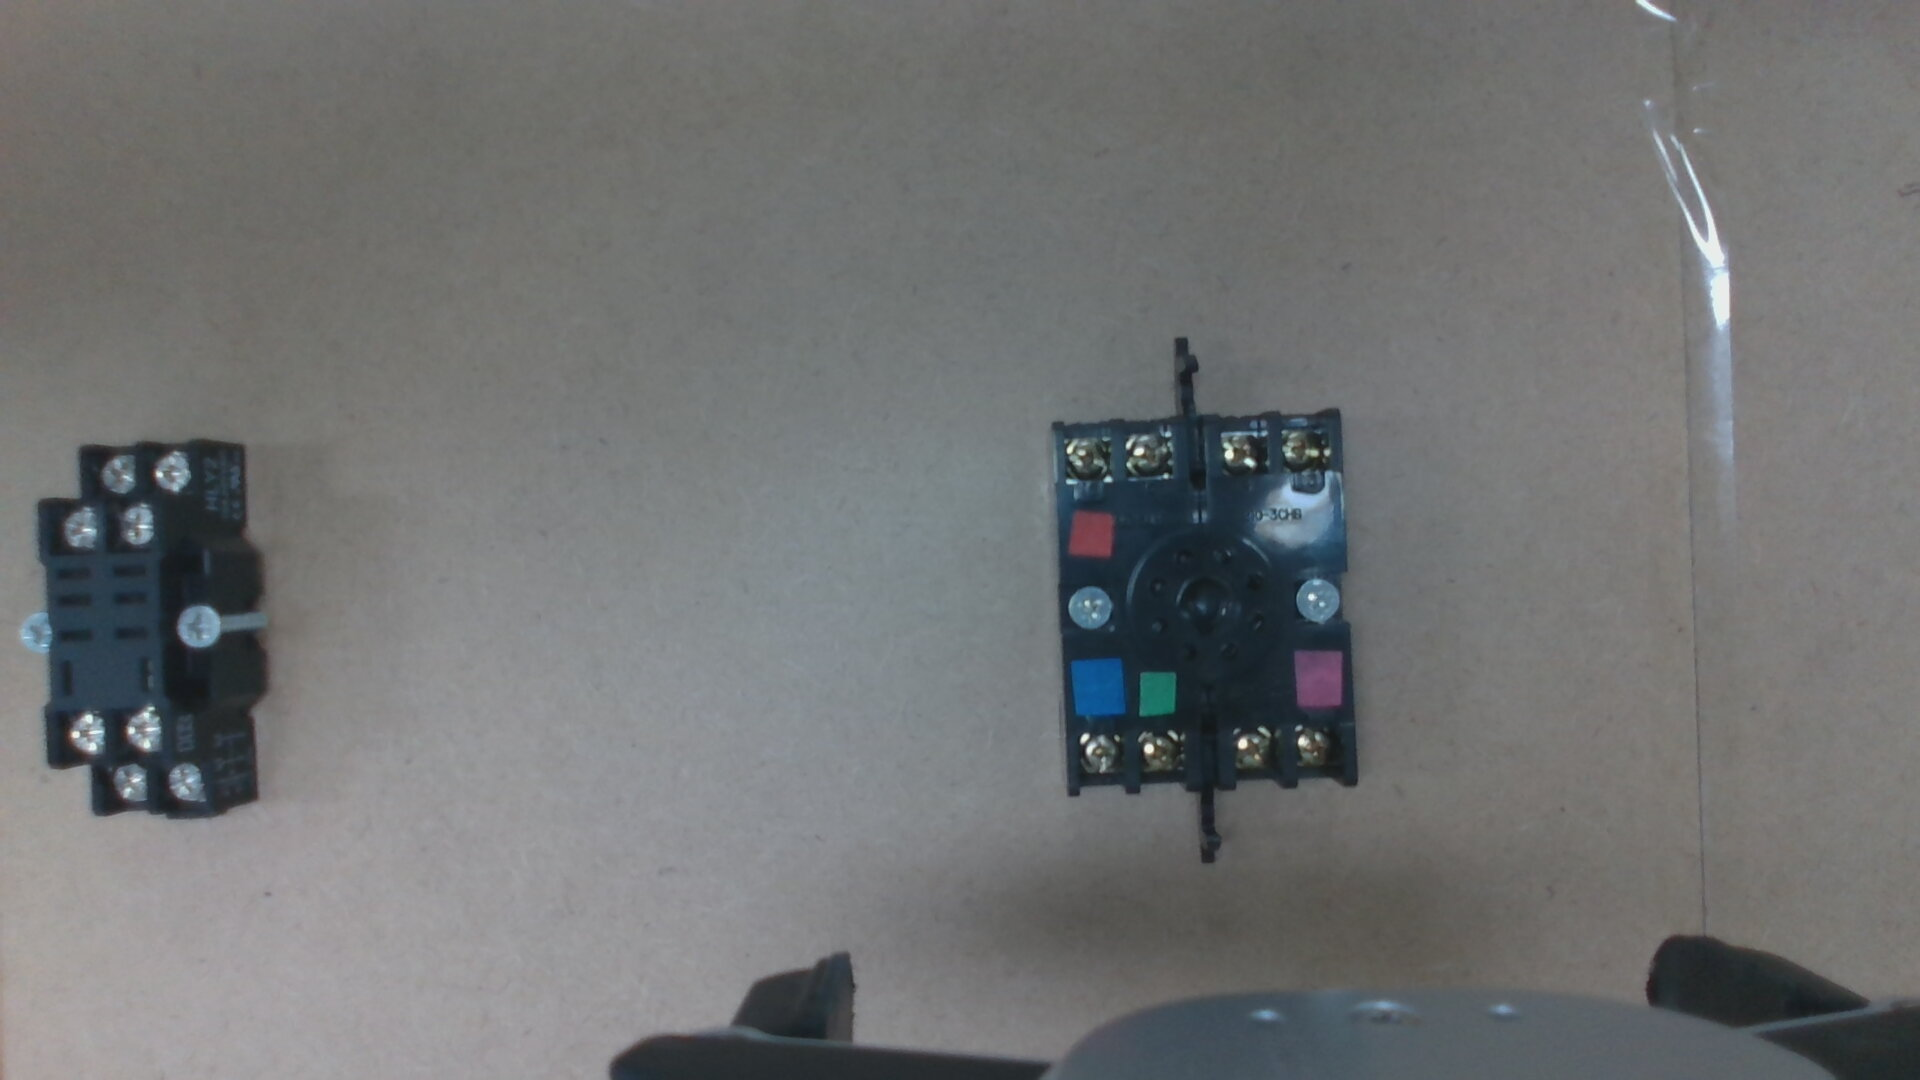timer 2: (1296, 725, 1335, 765)
timer 6: (1065, 438, 1109, 477)
timer 7: (1079, 735, 1122, 773)
timer 8: (1138, 732, 1182, 773)
